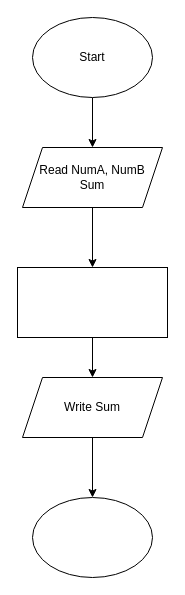
Some shapes in this 185 by 595 pixel diagram are drawn without their labels. The centre of each missing label's shape, as x and y in pixels:
End: the point at 92,537
Set Square1 = NumA × NumA Set Square2 = NumB × NumB: the point at 92,302
